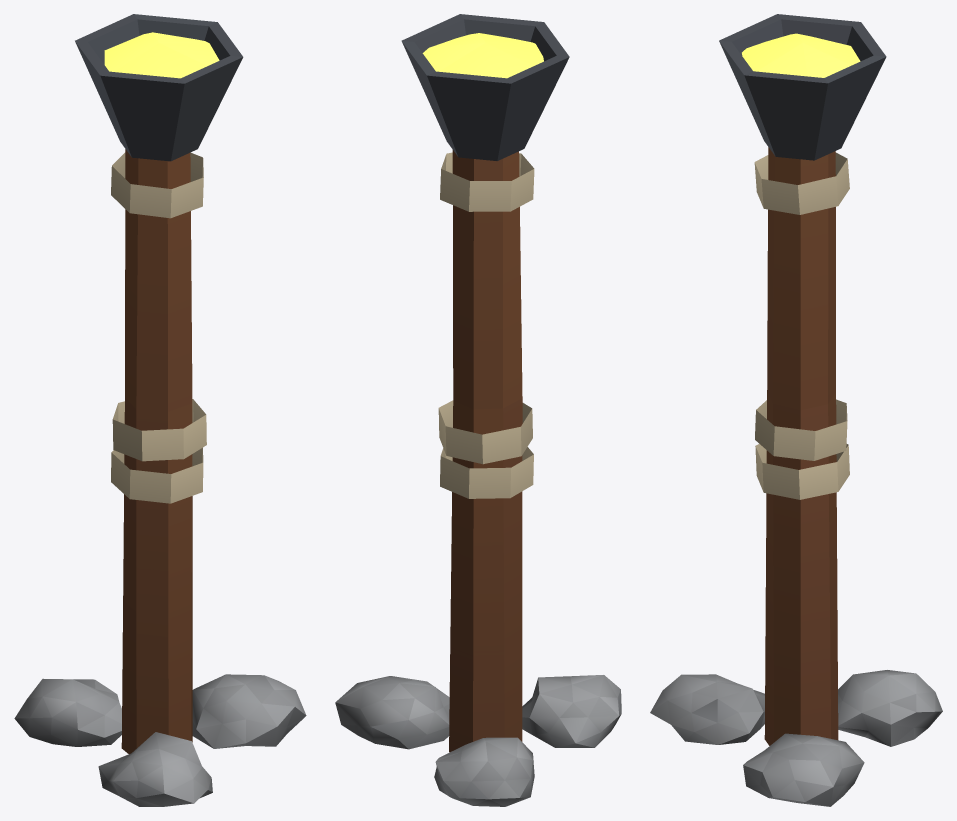
The model's file is muster_torch.glb.
The picture shows the model from 3 angles, left to right: view 1: azimuth 30°, elevation 25°; view 2: azimuth 150°, elevation 25°; view 3: azimuth 270°, elevation 25°; orthographic projection.
Parts seen in each view (by area): view 1: MusterTorchBody; view 2: MusterTorchBody; view 3: MusterTorchBody.
Boxes of the visible parts, bbox=[...] form: MusterTorchBody: bbox=[14, 14, 306, 806]; MusterTorchBody: bbox=[335, 14, 621, 806]; MusterTorchBody: bbox=[650, 14, 942, 806].
Bounding box in the file's own units: 0.8073 × 2.34 × 0.8859.
